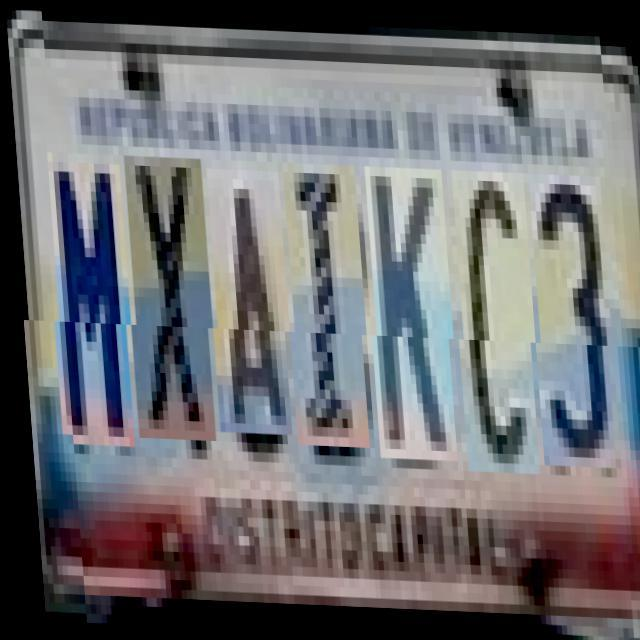3: (526, 169, 615, 463)
A: (204, 167, 291, 433)
C: (449, 166, 538, 469)
I: (280, 160, 368, 445)
K: (362, 162, 456, 458)
M: (45, 161, 133, 446)
X: (122, 155, 215, 440)
